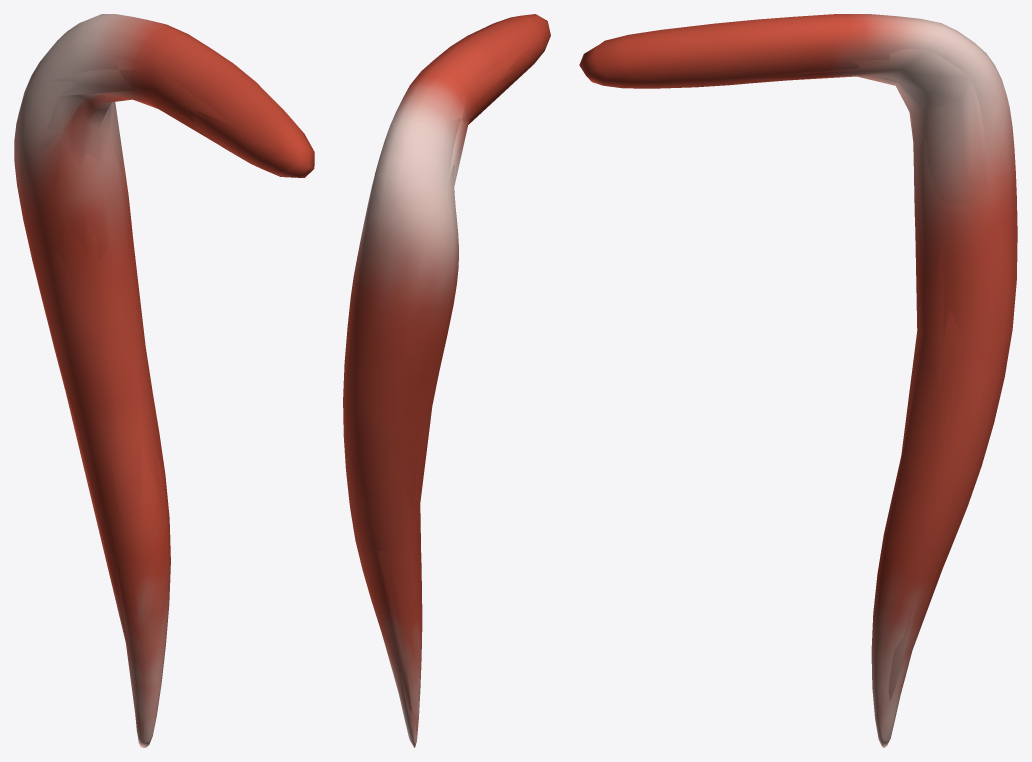
File: L Ulnaris Lateralis.fbx
3 renders of one model, left to right at view 1: azimuth 30°, elevation 25°; view 2: azimuth 150°, elevation 25°; view 3: azimuth 270°, elevation 25°, orthographic. The views are drawn at different scales.
Visible parts, largest first — view 1: L Ulnaris Lateralis, L Ulnaris Lateralis low; view 2: L Ulnaris Lateralis, L Ulnaris Lateralis low; view 3: L Ulnaris Lateralis, L Ulnaris Lateralis low.
Part boxes in pixels (<box>): L Ulnaris Lateralis: <box>14,14,314,747</box>; L Ulnaris Lateralis low: <box>33,54,313,743</box>; L Ulnaris Lateralis: <box>343,14,550,747</box>; L Ulnaris Lateralis low: <box>360,38,549,735</box>; L Ulnaris Lateralis: <box>579,14,1017,747</box>; L Ulnaris Lateralis low: <box>581,49,1003,701</box>.
Bounding box in the file's own units: 1.57 × 9.06 × 4.92.
